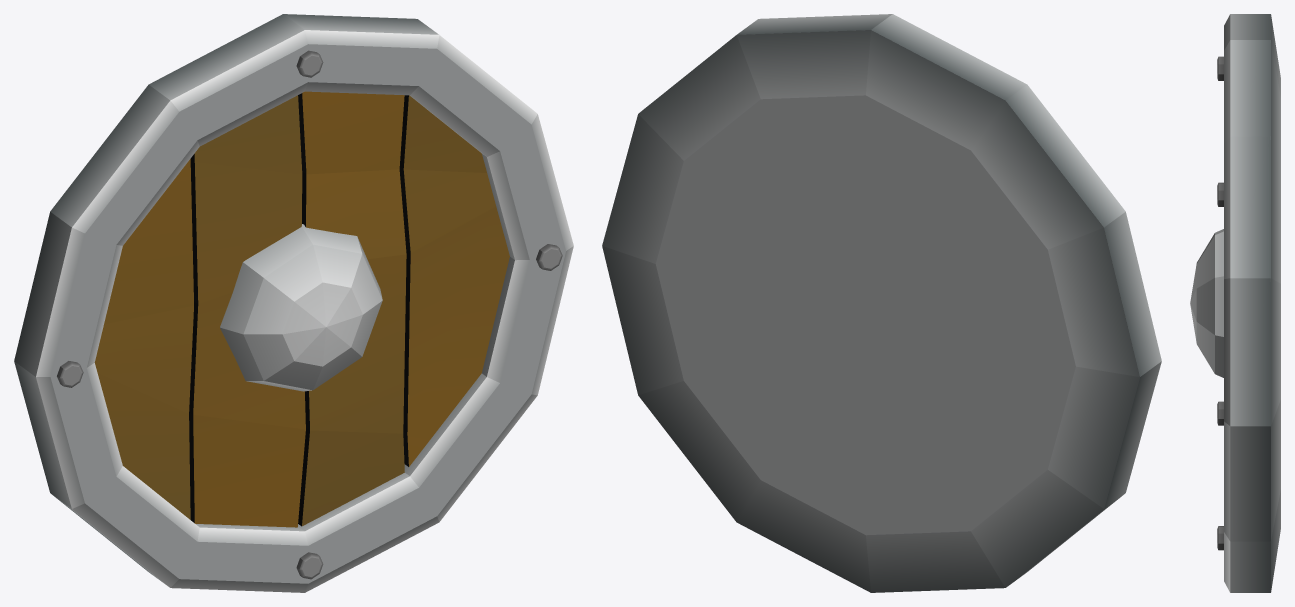
The model's file is shield_2.fbx.
The picture shows the model from 3 angles, left to right: view 1: azimuth 30°, elevation 25°; view 2: azimuth 150°, elevation 25°; view 3: azimuth 270°, elevation 25°; orthographic projection. The views are drawn at different scales.
Visible parts, largest first — view 1: shield_2; view 2: shield_2; view 3: shield_2.
Part boxes in pixels (box(x1,y1,x2,y2)): shield_2: box(14, 14, 573, 592); shield_2: box(602, 14, 1161, 592); shield_2: box(1190, 14, 1280, 592).
Bounding box in the file's own units: 0.5055 × 0.5055 × 0.0789.
